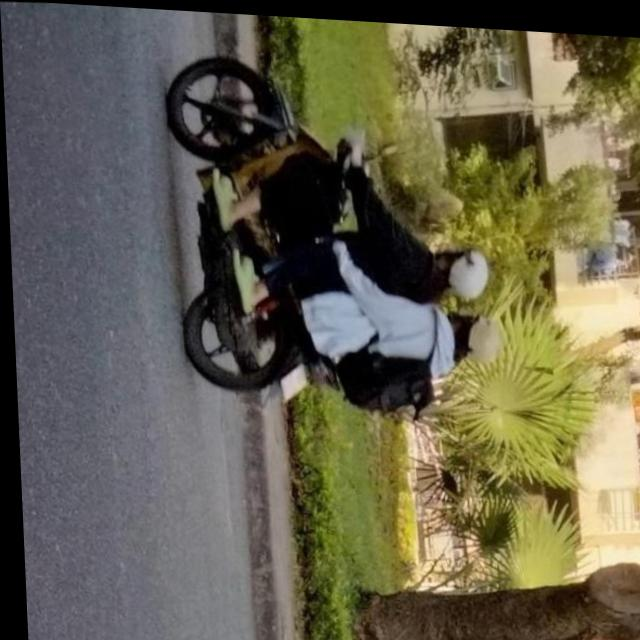WITH_HELMET: (437, 242, 491, 298), (466, 308, 504, 356)
